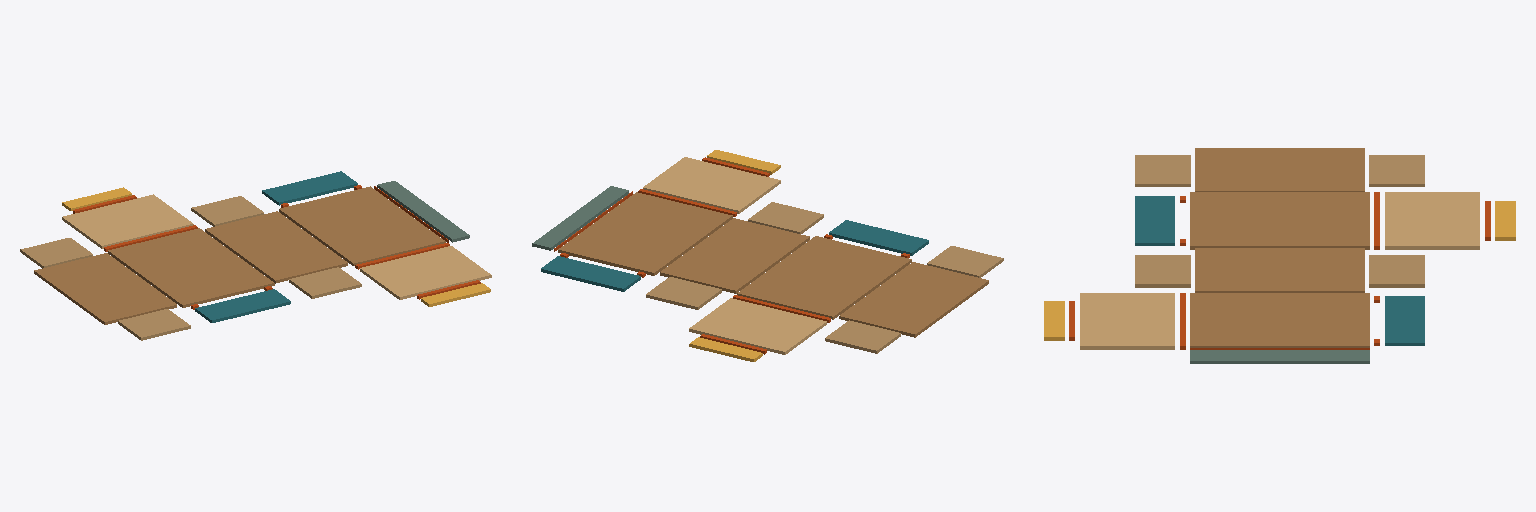
URDF robot description (finite_thickness_tuck_carton):
<?xml version='1.0' encoding='utf-8'?>
<robot name="finite_thickness_tuck_carton">
  <!-- SI units. Root: back_wall. All zero joints: flat net. The slot ears are separate collision boxes: do not convex-hull them together. -->
  <material name="kraft">
    <color rgba="0.69 0.52 0.34 1" />
  </material>
  <material name="lid">
    <color rgba="0.84 0.69 0.49 1" />
  </material>
  <material name="dust">
    <color rgba="0.75 0.61 0.43 1" />
  </material>
  <material name="margin">
    <color rgba="0.79 0.35 0.14 1" />
  </material>
  <material name="keeper">
    <color rgba="0.22 0.48 0.51 1" />
  </material>
  <material name="tab">
    <color rgba="0.92 0.7 0.31 1" />
  </material>
  <material name="glue">
    <color rgba="0.43 0.52 0.48 1" />
  </material>
  <link name="back_wall">
    <inertial>
      <origin xyz="0.025 0.035 0" rpy="0 0 0" />
      <mass value="0.003469958625" />
      <inertia ixx="1.35154093245e-06" iyy="6.76633979886e-07" izz="2.02687367785e-06" ixy="0" ixz="0" iyz="0" />
    </inertial>
    <visual name="back_wall_visual_0">
      <origin xyz="0.025 0.035 0" rpy="0 0 0" />
      <geometry>
        <box size="0.04835 0.06835 0.0015" />
      </geometry>
      <material name="kraft" />
    </visual>
    <collision name="back_wall_collision_0">
      <origin xyz="0.025 0.035 0" rpy="0 0 0" />
      <geometry>
        <box size="0.04835 0.06835 0.0015" />
      </geometry>
    </collision>
  </link>
  <link name="right_wall">
    <inertial>
      <origin xyz="0.02 0.035 0" rpy="0 0 0" />
      <mass value="0.002595240375" />
      <inertia ixx="8.98829604052e-07" iyy="3.18559808605e-07" izz="1.21641619752e-06" ixy="0" ixz="0" iyz="0" />
    </inertial>
    <visual name="right_wall_visual_0">
      <origin xyz="0.02 0.035 0" rpy="0 0 0" />
      <geometry>
        <box size="0.03835 0.06445 0.0015" />
      </geometry>
      <material name="kraft" />
    </visual>
    <collision name="right_wall_collision_0">
      <origin xyz="0.02 0.035 0" rpy="0 0 0" />
      <geometry>
        <box size="0.03835 0.06445 0.0015" />
      </geometry>
    </collision>
  </link>
  <link name="front_wall">
    <inertial>
      <origin xyz="0.025 0.035 0" rpy="0 0 0" />
      <mass value="0.003469958625" />
      <inertia ixx="1.35154093245e-06" iyy="6.76633979886e-07" izz="2.02687367785e-06" ixy="0" ixz="0" iyz="0" />
    </inertial>
    <visual name="front_wall_visual_0">
      <origin xyz="0.025 0.035 0" rpy="0 0 0" />
      <geometry>
        <box size="0.04835 0.06835 0.0015" />
      </geometry>
      <material name="kraft" />
    </visual>
    <collision name="front_wall_collision_0">
      <origin xyz="0.025 0.035 0" rpy="0 0 0" />
      <geometry>
        <box size="0.04835 0.06835 0.0015" />
      </geometry>
    </collision>
  </link>
  <link name="left_wall">
    <inertial>
      <origin xyz="-0.02 0.035 0" rpy="0 0 0" />
      <mass value="0.002595240375" />
      <inertia ixx="8.98829604052e-07" iyy="3.18559808605e-07" izz="1.21641619752e-06" ixy="0" ixz="0" iyz="0" />
    </inertial>
    <visual name="left_wall_visual_0">
      <origin xyz="-0.02 0.035 0" rpy="0 0 0" />
      <geometry>
        <box size="0.03835 0.06445 0.0015" />
      </geometry>
      <material name="kraft" />
    </visual>
    <collision name="left_wall_collision_0">
      <origin xyz="-0.02 0.035 0" rpy="0 0 0" />
      <geometry>
        <box size="0.03835 0.06445 0.0015" />
      </geometry>
    </collision>
  </link>
  <joint name="fold_right_wall" type="revolute">
    <parent link="back_wall" />
    <child link="right_wall" />
    <origin xyz="0.05 0 0" rpy="0 0 0" />
    <axis xyz="0 -1 0" />
    <limit lower="0" upper="1.57079632679" effort="0.05" velocity="2.0" />
    <dynamics damping="0.0001" friction="0" />
  </joint>
  <joint name="fold_front_wall" type="revolute">
    <parent link="right_wall" />
    <child link="front_wall" />
    <origin xyz="0.04 0 0" rpy="0 0 0" />
    <axis xyz="0 -1 0" />
    <limit lower="0" upper="1.57079632679" effort="0.05" velocity="2.0" />
    <dynamics damping="0.0001" friction="0" />
  </joint>
  <joint name="fold_left_wall" type="revolute">
    <parent link="back_wall" />
    <child link="left_wall" />
    <origin xyz="0 0 0" rpy="0 0 0" />
    <axis xyz="0 1 0" />
    <limit lower="0" upper="1.57079632679" effort="0.05" velocity="2.0" />
    <dynamics damping="0.0001" friction="0" />
  </joint>
  <link name="seam_margin">
    <inertial>
      <origin xyz="0.000975 0.035 0" rpy="0 0 0" />
      <mass value="2.153025e-05" />
      <inertia ixx="8.38598303484e-09" iyy="4.19839875e-12" izz="8.38210758984e-09" ixy="0" ixz="0" iyz="0" />
    </inertial>
    <visual name="seam_margin_visual_0">
      <origin xyz="0.000975 0.035 0" rpy="0 0 0" />
      <geometry>
        <box size="0.0003 0.06835 0.0015" />
      </geometry>
      <material name="margin" />
    </visual>
    <collision name="seam_margin_collision_0">
      <origin xyz="0.000975 0.035 0" rpy="0 0 0" />
      <geometry>
        <box size="0.0003 0.06835 0.0015" />
      </geometry>
    </collision>
  </link>
  <link name="glue_flap">
    <inertial>
      <origin xyz="0.0054125 0.035 0" rpy="0 0 0" />
      <mass value="0.0006584668125" />
      <inertia ixx="2.56471314482e-07" iyy="4.74264151218e-09" izz="2.6096703094e-07" ixy="0" ixz="0" iyz="0" />
    </inertial>
    <visual name="glue_flap_visual_0">
      <origin xyz="0.0054125 0.035 0" rpy="0 0 0" />
      <geometry>
        <box size="0.009175 0.06835 0.0015" />
      </geometry>
      <material name="glue" />
    </visual>
    <collision name="glue_flap_collision_0">
      <origin xyz="0.0054125 0.035 0" rpy="0 0 0" />
      <geometry>
        <box size="0.009175 0.06835 0.0015" />
      </geometry>
    </collision>
  </link>
  <joint name="seam_margin_fold" type="revolute">
    <parent link="front_wall" />
    <child link="seam_margin" />
    <origin xyz="0.05 0 0" rpy="0 0 0" />
    <axis xyz="0 -1 0" />
    <limit lower="-0.523598775598" upper="0.523598775598" effort="0.05" velocity="2.0" />
    <dynamics damping="0.0001" friction="0" />
  </joint>
  <joint name="glue_flap_fold" type="revolute">
    <parent link="seam_margin" />
    <child link="glue_flap" />
    <origin xyz="0.00195 0 0" rpy="0 0 0" />
    <axis xyz="0 -1 0" />
    <limit lower="0" upper="1.57079632679" effort="0.05" velocity="2.0" />
    <dynamics damping="0.0001" friction="0" />
  </joint>
  <link name="top_socket_margin">
    <inertial>
      <origin xyz="0 0.00195 0" rpy="0 0 0" />
      <mass value="1.4765625e-05" />
      <inertia ixx="8.99780273437e-12" iyy="5.52195922852e-09" izz="5.52541992187e-09" ixy="0" ixz="0" iyz="0" />
    </inertial>
    <visual name="top_socket_margin_visual_0">
      <origin xyz="-0.0193125 0.00195 0" rpy="0 0 0" />
      <geometry>
        <box size="0.003125 0.00225 0.0015" />
      </geometry>
      <material name="margin" />
    </visual>
    <collision name="top_socket_margin_collision_0">
      <origin xyz="-0.0193125 0.00195 0" rpy="0 0 0" />
      <geometry>
        <box size="0.003125 0.00225 0.0015" />
      </geometry>
    </collision>
    <visual name="top_socket_margin_visual_1">
      <origin xyz="0.0193125 0.00195 0" rpy="0 0 0" />
      <geometry>
        <box size="0.003125 0.00225 0.0015" />
      </geometry>
      <material name="margin" />
    </visual>
    <collision name="top_socket_margin_collision_1">
      <origin xyz="0.0193125 0.00195 0" rpy="0 0 0" />
      <geometry>
        <box size="0.003125 0.00225 0.0015" />
      </geometry>
    </collision>
  </link>
  <link name="top_socket_keeper">
    <inertial>
      <origin xyz="0 0.00847019230769 0" rpy="0 0 0" />
      <mass value="0.000670292235577" />
      <inertia ixx="1.3184975694e-08" iyy="9.74891181171e-08" izz="1.10422734223e-07" ixy="0" ixz="0" iyz="0" />
    </inertial>
    <visual name="top_socket_keeper_visual_0">
      <origin xyz="0 0.00847019230769 0" rpy="0 0 0" />
      <geometry>
        <box size="0.04175 0.0152903846154 0.0015" />
      </geometry>
      <material name="keeper" />
    </visual>
    <collision name="top_socket_keeper_collision_0">
      <origin xyz="0 0.00847019230769 0" rpy="0 0 0" />
      <geometry>
        <box size="0.04175 0.0152903846154 0.0015" />
      </geometry>
    </collision>
  </link>
  <joint name="top_socket_base" type="revolute">
    <parent link="front_wall" />
    <child link="top_socket_margin" />
    <origin xyz="0.025 0.07 0" rpy="0 0 0" />
    <axis xyz="1 0 0" />
    <limit lower="0" upper="1.57079632679" effort="0.05" velocity="2.0" />
    <dynamics damping="0.0001" friction="0" />
  </joint>
  <joint name="top_socket_return" type="revolute">
    <parent link="top_socket_margin" />
    <child link="top_socket_keeper" />
    <origin xyz="0 0.0039 0" rpy="0 0 0" />
    <axis xyz="1 0 0" />
    <limit lower="0" upper="1.57079632679" effort="0.05" velocity="2.0" />
    <dynamics damping="0.0001" friction="0" />
  </joint>
  <link name="bottom_socket_margin">
    <inertial>
      <origin xyz="0 0.00195 0" rpy="0 0 0" />
      <mass value="1.4765625e-05" />
      <inertia ixx="8.99780273437e-12" iyy="5.52195922852e-09" izz="5.52541992187e-09" ixy="0" ixz="0" iyz="0" />
    </inertial>
    <visual name="bottom_socket_margin_visual_0">
      <origin xyz="-0.0193125 0.00195 0" rpy="0 0 0" />
      <geometry>
        <box size="0.003125 0.00225 0.0015" />
      </geometry>
      <material name="margin" />
    </visual>
    <collision name="bottom_socket_margin_collision_0">
      <origin xyz="-0.0193125 0.00195 0" rpy="0 0 0" />
      <geometry>
        <box size="0.003125 0.00225 0.0015" />
      </geometry>
    </collision>
    <visual name="bottom_socket_margin_visual_1">
      <origin xyz="0.0193125 0.00195 0" rpy="0 0 0" />
      <geometry>
        <box size="0.003125 0.00225 0.0015" />
      </geometry>
      <material name="margin" />
    </visual>
    <collision name="bottom_socket_margin_collision_1">
      <origin xyz="0.0193125 0.00195 0" rpy="0 0 0" />
      <geometry>
        <box size="0.003125 0.00225 0.0015" />
      </geometry>
    </collision>
  </link>
  <link name="bottom_socket_keeper">
    <inertial>
      <origin xyz="0 0.00847019230769 0" rpy="0 0 0" />
      <mass value="0.000670292235577" />
      <inertia ixx="1.3184975694e-08" iyy="9.74891181171e-08" izz="1.10422734223e-07" ixy="0" ixz="0" iyz="0" />
    </inertial>
    <visual name="bottom_socket_keeper_visual_0">
      <origin xyz="0 0.00847019230769 0" rpy="0 0 0" />
      <geometry>
        <box size="0.04175 0.0152903846154 0.0015" />
      </geometry>
      <material name="keeper" />
    </visual>
    <collision name="bottom_socket_keeper_collision_0">
      <origin xyz="0 0.00847019230769 0" rpy="0 0 0" />
      <geometry>
        <box size="0.04175 0.0152903846154 0.0015" />
      </geometry>
    </collision>
  </link>
  <joint name="bottom_socket_base" type="revolute">
    <parent link="back_wall" />
    <child link="bottom_socket_margin" />
    <origin xyz="0.025 0 0" rpy="0 0 3.14159265359" />
    <axis xyz="1 0 0" />
    <limit lower="0" upper="1.57079632679" effort="0.05" velocity="2.0" />
    <dynamics damping="0.0001" friction="0" />
  </joint>
  <joint name="bottom_socket_return" type="revolute">
    <parent link="bottom_socket_margin" />
    <child link="bottom_socket_keeper" />
    <origin xyz="0 0.0039 0" rpy="0 0 0" />
    <axis xyz="1 0 0" />
    <limit lower="0" upper="1.57079632679" effort="0.05" velocity="2.0" />
    <dynamics damping="0.0001" friction="0" />
  </joint>
  <link name="top_lid_margin">
    <inertial>
      <origin xyz="0 0.00195 0" rpy="0 0 0" />
      <mass value="0.000114226875" />
      <inertia ixx="6.96070019531e-11" iyy="2.22739788551e-08" izz="2.23007507789e-08" ixy="0" ixz="0" iyz="0" />
    </inertial>
    <visual name="top_lid_margin_visual_0">
      <origin xyz="0 0.00195 0" rpy="0 0 0" />
      <geometry>
        <box size="0.04835 0.00225 0.0015" />
      </geometry>
      <material name="margin" />
    </visual>
    <collision name="top_lid_margin_collision_0">
      <origin xyz="0 0.00195 0" rpy="0 0 0" />
      <geometry>
        <box size="0.04835 0.00225 0.0015" />
      </geometry>
    </collision>
  </link>
  <link name="top_lid">
    <inertial>
      <origin xyz="0 0.019025 0" rpy="0 0 0" />
      <mass value="0.001847937" />
      <inertia ixx="2.04383372148e-07" iyy="3.60343480144e-07" izz="5.64033875917e-07" ixy="0" ixz="0" iyz="0" />
    </inertial>
    <visual name="top_lid_visual_0">
      <origin xyz="0 0.019025 0" rpy="0 0 0" />
      <geometry>
        <box size="0.04835 0.0364 0.0015" />
      </geometry>
      <material name="lid" />
    </visual>
    <collision name="top_lid_collision_0">
      <origin xyz="0 0.019025 0" rpy="0 0 0" />
      <geometry>
        <box size="0.04835 0.0364 0.0015" />
      </geometry>
    </collision>
  </link>
  <link name="top_tuck_margin">
    <inertial>
      <origin xyz="0 0.00195 0" rpy="0 0 0" />
      <mass value="7.678125e-05" />
      <inertia ixx="4.67885742188e-11" iyy="6.77274609375e-09" izz="6.79074169922e-09" ixy="0" ixz="0" iyz="0" />
    </inertial>
    <visual name="top_tuck_margin_visual_0">
      <origin xyz="0 0.00195 0" rpy="0 0 0" />
      <geometry>
        <box size="0.0325 0.00225 0.0015" />
      </geometry>
      <material name="margin" />
    </visual>
    <collision name="top_tuck_margin_collision_0">
      <origin xyz="0 0.00195 0" rpy="0 0 0" />
      <geometry>
        <box size="0.0325 0.00225 0.0015" />
      </geometry>
    </collision>
  </link>
  <link name="top_tuck_tab">
    <inertial>
      <origin xyz="0 0.00472019230769 0" rpy="0 0 0" />
      <mass value="0.000265846875" />
      <inertia ixx="1.39436890763e-09" iyy="2.34499097656e-08" izz="2.47445860951e-08" ixy="0" ixz="0" iyz="0" />
    </inertial>
    <visual name="top_tuck_tab_visual_0">
      <origin xyz="0 0.00472019230769 0" rpy="0 0 0" />
      <geometry>
        <box size="0.0325 0.00779038461538 0.0015" />
      </geometry>
      <material name="tab" />
    </visual>
    <collision name="top_tuck_tab_collision_0">
      <origin xyz="0 0.00472019230769 0" rpy="0 0 0" />
      <geometry>
        <box size="0.0325 0.00779038461538 0.0015" />
      </geometry>
    </collision>
  </link>
  <joint name="top_lid_margin_fold" type="revolute">
    <parent link="back_wall" />
    <child link="top_lid_margin" />
    <origin xyz="0.025 0.07 0" rpy="0 0 0" />
    <axis xyz="1 0 0" />
    <limit lower="-0.523598775598" upper="0.523598775598" effort="0.05" velocity="2.0" />
    <dynamics damping="0.0001" friction="0" />
  </joint>
  <joint name="top_lid_fold" type="revolute">
    <parent link="top_lid_margin" />
    <child link="top_lid" />
    <origin xyz="0 0.0039 0" rpy="0 0 0" />
    <axis xyz="1 0 0" />
    <limit lower="0" upper="1.57079632679" effort="0.05" velocity="2.0" />
    <dynamics damping="0.0001" friction="0" />
  </joint>
  <joint name="top_tuck_margin_fold" type="revolute">
    <parent link="top_lid" />
    <child link="top_tuck_margin" />
    <origin xyz="0 0.03805 0" rpy="0 0 0" />
    <axis xyz="1 0 0" />
    <limit lower="0" upper="1.83259571459" effort="0.05" velocity="2.0" />
    <dynamics damping="0.0001" friction="0" />
  </joint>
  <joint name="top_tuck_tab_fold" type="revolute">
    <parent link="top_tuck_margin" />
    <child link="top_tuck_tab" />
    <origin xyz="0 0.0039 0" rpy="0 0 0" />
    <axis xyz="1 0 0" />
    <limit lower="0" upper="1.57079632679" effort="0.05" velocity="2.0" />
    <dynamics damping="0.0001" friction="0" />
  </joint>
  <link name="bottom_lid_margin">
    <inertial>
      <origin xyz="0 0.00195 0" rpy="0 0 0" />
      <mass value="0.000114226875" />
      <inertia ixx="6.96070019531e-11" iyy="2.22739788551e-08" izz="2.23007507789e-08" ixy="0" ixz="0" iyz="0" />
    </inertial>
    <visual name="bottom_lid_margin_visual_0">
      <origin xyz="0 0.00195 0" rpy="0 0 0" />
      <geometry>
        <box size="0.04835 0.00225 0.0015" />
      </geometry>
      <material name="margin" />
    </visual>
    <collision name="bottom_lid_margin_collision_0">
      <origin xyz="0 0.00195 0" rpy="0 0 0" />
      <geometry>
        <box size="0.04835 0.00225 0.0015" />
      </geometry>
    </collision>
  </link>
  <link name="bottom_lid">
    <inertial>
      <origin xyz="0 0.019025 0" rpy="0 0 0" />
      <mass value="0.001847937" />
      <inertia ixx="2.04383372148e-07" iyy="3.60343480144e-07" izz="5.64033875917e-07" ixy="0" ixz="0" iyz="0" />
    </inertial>
    <visual name="bottom_lid_visual_0">
      <origin xyz="0 0.019025 0" rpy="0 0 0" />
      <geometry>
        <box size="0.04835 0.0364 0.0015" />
      </geometry>
      <material name="lid" />
    </visual>
    <collision name="bottom_lid_collision_0">
      <origin xyz="0 0.019025 0" rpy="0 0 0" />
      <geometry>
        <box size="0.04835 0.0364 0.0015" />
      </geometry>
    </collision>
  </link>
  <link name="bottom_tuck_margin">
    <inertial>
      <origin xyz="0 0.00195 0" rpy="0 0 0" />
      <mass value="7.678125e-05" />
      <inertia ixx="4.67885742188e-11" iyy="6.77274609375e-09" izz="6.79074169922e-09" ixy="0" ixz="0" iyz="0" />
    </inertial>
    <visual name="bottom_tuck_margin_visual_0">
      <origin xyz="0 0.00195 0" rpy="0 0 0" />
      <geometry>
        <box size="0.0325 0.00225 0.0015" />
      </geometry>
      <material name="margin" />
    </visual>
    <collision name="bottom_tuck_margin_collision_0">
      <origin xyz="0 0.00195 0" rpy="0 0 0" />
      <geometry>
        <box size="0.0325 0.00225 0.0015" />
      </geometry>
    </collision>
  </link>
  <link name="bottom_tuck_tab">
    <inertial>
      <origin xyz="0 0.00472019230769 0" rpy="0 0 0" />
      <mass value="0.000265846875" />
      <inertia ixx="1.39436890763e-09" iyy="2.34499097656e-08" izz="2.47445860951e-08" ixy="0" ixz="0" iyz="0" />
    </inertial>
    <visual name="bottom_tuck_tab_visual_0">
      <origin xyz="0 0.00472019230769 0" rpy="0 0 0" />
      <geometry>
        <box size="0.0325 0.00779038461538 0.0015" />
      </geometry>
      <material name="tab" />
    </visual>
    <collision name="bottom_tuck_tab_collision_0">
      <origin xyz="0 0.00472019230769 0" rpy="0 0 0" />
      <geometry>
        <box size="0.0325 0.00779038461538 0.0015" />
      </geometry>
    </collision>
  </link>
  <joint name="bottom_lid_margin_fold" type="revolute">
    <parent link="front_wall" />
    <child link="bottom_lid_margin" />
    <origin xyz="0.025 0 0" rpy="0 0 3.14159265359" />
    <axis xyz="1 0 0" />
    <limit lower="-0.523598775598" upper="0.523598775598" effort="0.05" velocity="2.0" />
    <dynamics damping="0.0001" friction="0" />
  </joint>
  <joint name="bottom_lid_fold" type="revolute">
    <parent link="bottom_lid_margin" />
    <child link="bottom_lid" />
    <origin xyz="0 0.0039 0" rpy="0 0 0" />
    <axis xyz="1 0 0" />
    <limit lower="0" upper="1.57079632679" effort="0.05" velocity="2.0" />
    <dynamics damping="0.0001" friction="0" />
  </joint>
  <joint name="bottom_tuck_margin_fold" type="revolute">
    <parent link="bottom_lid" />
    <child link="bottom_tuck_margin" />
    <origin xyz="0 0.03805 0" rpy="0 0 0" />
    <axis xyz="1 0 0" />
    <limit lower="0" upper="1.83259571459" effort="0.05" velocity="2.0" />
    <dynamics damping="0.0001" friction="0" />
  </joint>
  <joint name="bottom_tuck_tab_fold" type="revolute">
    <parent link="bottom_tuck_margin" />
    <child link="bottom_tuck_tab" />
    <origin xyz="0 0.0039 0" rpy="0 0 0" />
    <axis xyz="1 0 0" />
    <limit lower="0" upper="1.57079632679" effort="0.05" velocity="2.0" />
    <dynamics damping="0.0001" friction="0" />
  </joint>
  <link name="top_right_dust">
    <inertial>
      <origin xyz="0 0.0114125 0" rpy="0 0 0" />
      <mass value="0.00058252425" />
      <inertia ixx="2.18752722379e-08" iyy="3.34315521444e-08" izz="5.50883777886e-08" ixy="0" ixz="0" iyz="0" />
    </inertial>
    <visual name="top_right_dust_visual_0">
      <origin xyz="0 0.0114125 0" rpy="0 0 0" />
      <geometry>
        <box size="0.0262 0.021175 0.0015" />
      </geometry>
      <material name="dust" />
    </visual>
    <collision name="top_right_dust_collision_0">
      <origin xyz="0 0.0114125 0" rpy="0 0 0" />
      <geometry>
        <box size="0.0262 0.021175 0.0015" />
      </geometry>
    </collision>
  </link>
  <joint name="top_right_dust_fold" type="revolute">
    <parent link="right_wall" />
    <child link="top_right_dust" />
    <origin xyz="0.02 0.06805 0" rpy="0 0 0" />
    <axis xyz="1 0 0" />
    <limit lower="0" upper="1.57079632679" effort="0.05" velocity="2.0" />
    <dynamics damping="0.0001" friction="0" />
  </joint>
  <link name="bottom_right_dust">
    <inertial>
      <origin xyz="0 0.0114125 0" rpy="0 0 0" />
      <mass value="0.00058252425" />
      <inertia ixx="2.18752722379e-08" iyy="3.34315521444e-08" izz="5.50883777886e-08" ixy="0" ixz="0" iyz="0" />
    </inertial>
    <visual name="bottom_right_dust_visual_0">
      <origin xyz="0 0.0114125 0" rpy="0 0 0" />
      <geometry>
        <box size="0.0262 0.021175 0.0015" />
      </geometry>
      <material name="dust" />
    </visual>
    <collision name="bottom_right_dust_collision_0">
      <origin xyz="0 0.0114125 0" rpy="0 0 0" />
      <geometry>
        <box size="0.0262 0.021175 0.0015" />
      </geometry>
    </collision>
  </link>
  <joint name="bottom_right_dust_fold" type="revolute">
    <parent link="right_wall" />
    <child link="bottom_right_dust" />
    <origin xyz="0.02 0.00195 0" rpy="0 0 3.14159265359" />
    <axis xyz="1 0 0" />
    <limit lower="0" upper="1.57079632679" effort="0.05" velocity="2.0" />
    <dynamics damping="0.0001" friction="0" />
  </joint>
  <link name="top_left_dust">
    <inertial>
      <origin xyz="0 0.0114125 0" rpy="0 0 0" />
      <mass value="0.00058252425" />
      <inertia ixx="2.18752722379e-08" iyy="3.34315521444e-08" izz="5.50883777886e-08" ixy="0" ixz="0" iyz="0" />
    </inertial>
    <visual name="top_left_dust_visual_0">
      <origin xyz="0 0.0114125 0" rpy="0 0 0" />
      <geometry>
        <box size="0.0262 0.021175 0.0015" />
      </geometry>
      <material name="dust" />
    </visual>
    <collision name="top_left_dust_collision_0">
      <origin xyz="0 0.0114125 0" rpy="0 0 0" />
      <geometry>
        <box size="0.0262 0.021175 0.0015" />
      </geometry>
    </collision>
  </link>
  <joint name="top_left_dust_fold" type="revolute">
    <parent link="left_wall" />
    <child link="top_left_dust" />
    <origin xyz="-0.02 0.06805 0" rpy="0 0 0" />
    <axis xyz="1 0 0" />
    <limit lower="0" upper="1.57079632679" effort="0.05" velocity="2.0" />
    <dynamics damping="0.0001" friction="0" />
  </joint>
  <link name="bottom_left_dust">
    <inertial>
      <origin xyz="0 0.0114125 0" rpy="0 0 0" />
      <mass value="0.00058252425" />
      <inertia ixx="2.18752722379e-08" iyy="3.34315521444e-08" izz="5.50883777886e-08" ixy="0" ixz="0" iyz="0" />
    </inertial>
    <visual name="bottom_left_dust_visual_0">
      <origin xyz="0 0.0114125 0" rpy="0 0 0" />
      <geometry>
        <box size="0.0262 0.021175 0.0015" />
      </geometry>
      <material name="dust" />
    </visual>
    <collision name="bottom_left_dust_collision_0">
      <origin xyz="0 0.0114125 0" rpy="0 0 0" />
      <geometry>
        <box size="0.0262 0.021175 0.0015" />
      </geometry>
    </collision>
  </link>
  <joint name="bottom_left_dust_fold" type="revolute">
    <parent link="left_wall" />
    <child link="bottom_left_dust" />
    <origin xyz="-0.02 0.00195 0" rpy="0 0 3.14159265359" />
    <axis xyz="1 0 0" />
    <limit lower="0" upper="1.57079632679" effort="0.05" velocity="2.0" />
    <dynamics damping="0.0001" friction="0" />
  </joint>
</robot>

--- Facts derived from the render (not from the file) ---
Views: 3 orthographic renders of the robot side by side, from view 1: azimuth 30°, elevation 25°; view 2: azimuth 150°, elevation 25°; view 3: azimuth 270°, elevation 25°.
Robot: finite_thickness_tuck_carton — 22 links, 21 joints (21 revolute); root link back_wall; default pose: every joint at zero.
Visible links, largest first — view 1: back_wall, front_wall, right_wall, left_wall, bottom_lid, top_lid, bottom_socket_keeper, top_socket_keeper, glue_flap, bottom_left_dust, bottom_right_dust, top_right_dust (+3 smaller); view 2: front_wall, back_wall, right_wall, left_wall, top_lid, bottom_lid, top_socket_keeper, bottom_socket_keeper, glue_flap, top_left_dust, top_right_dust, bottom_left_dust (+3 smaller); view 3: back_wall, front_wall, right_wall, left_wall, top_lid, bottom_lid, glue_flap, top_socket_keeper, bottom_socket_keeper, top_right_dust, bottom_right_dust, top_left_dust (+3 smaller).
Boxes of the visible links, left/top/right/bottom form: back_wall: left=108, top=228, right=274, bottom=307; front_wall: left=279, top=186, right=445, bottom=265; right_wall: left=205, top=211, right=347, bottom=283; left_wall: left=34, top=253, right=176, bottom=324; bottom_lid: left=360, top=246, right=491, bottom=299; top_lid: left=62, top=194, right=193, bottom=248; bottom_socket_keeper: left=195, top=289, right=290, bottom=322; top_socket_keeper: left=262, top=171, right=357, bottom=205; glue_flap: left=377, top=181, right=469, bottom=242; bottom_left_dust: left=118, top=309, right=190, bottom=340; bottom_right_dust: left=289, top=267, right=361, bottom=298; top_right_dust: left=191, top=196, right=263, bottom=226; front_wall: left=558, top=192, right=732, bottom=275; back_wall: left=737, top=236, right=911, bottom=319; right_wall: left=660, top=218, right=809, bottom=293; left_wall: left=839, top=262, right=988, bottom=337; top_lid: left=689, top=298, right=826, bottom=354; bottom_lid: left=643, top=157, right=780, bottom=213; top_socket_keeper: left=541, top=256, right=640, bottom=291; bottom_socket_keeper: left=829, top=220, right=928, bottom=255; glue_flap: left=532, top=186, right=628, bottom=250; top_left_dust: left=825, top=320, right=900, bottom=353; top_right_dust: left=646, top=277, right=721, bottom=309; bottom_left_dust: left=927, top=246, right=1003, bottom=277; back_wall: left=1190, top=192, right=1369, bottom=249; front_wall: left=1190, top=293, right=1369, bottom=347; right_wall: left=1195, top=248, right=1364, bottom=292; left_wall: left=1195, top=148, right=1364, bottom=191; top_lid: left=1385, top=192, right=1479, bottom=249; bottom_lid: left=1080, top=293, right=1174, bottom=349; glue_flap: left=1190, top=350, right=1369, bottom=363; top_socket_keeper: left=1385, top=296, right=1424, bottom=345; bottom_socket_keeper: left=1135, top=196, right=1174, bottom=245; top_right_dust: left=1369, top=255, right=1424, bottom=287; bottom_right_dust: left=1135, top=255, right=1190, bottom=287; top_left_dust: left=1369, top=155, right=1424, bottom=186.
Bounding box of the posed robot: 0.1911 × 0.1789 × 0.0015 m (x, y, z).
Geometry: primitives only (box / cylinder / sphere), no mesh files.
